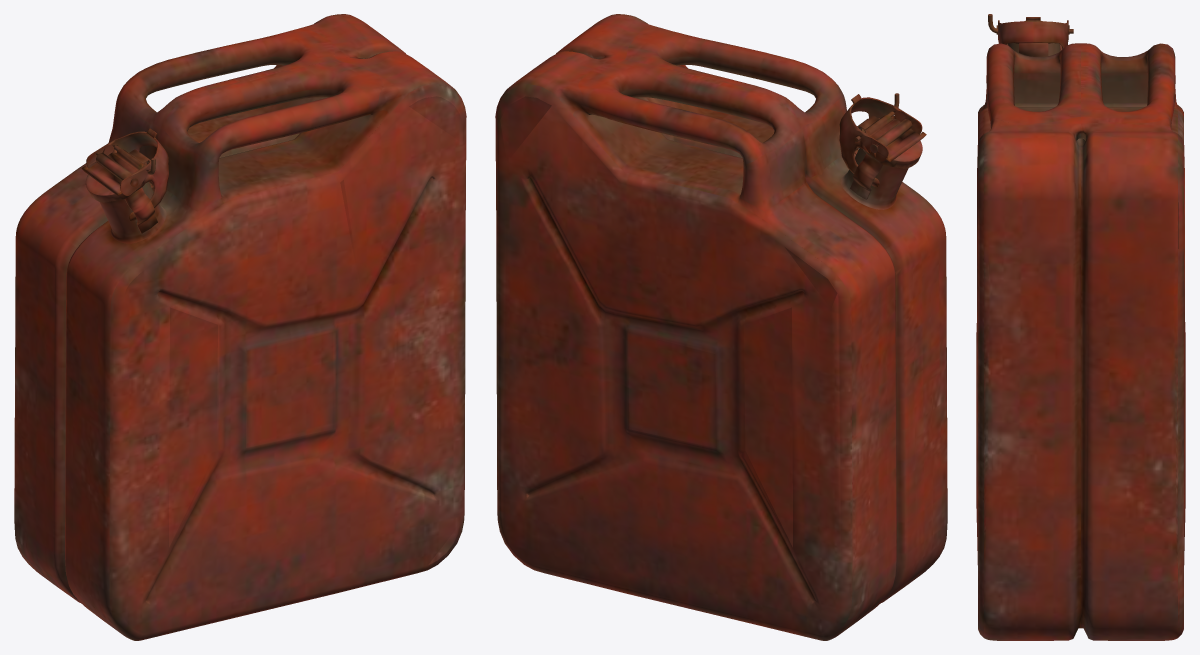
Rendered from ph_metal_jerrycan.glb.
3 renders of one model, left to right at view 1: azimuth 30°, elevation 25°; view 2: azimuth 150°, elevation 25°; view 3: azimuth 270°, elevation 25°, orthographic. The views are drawn at different scales.
Visible parts, largest first — view 1: metal_jerrycan; view 2: metal_jerrycan; view 3: metal_jerrycan.
Boxes of the visible parts, left/top/right/bottom form: metal_jerrycan: left=14, top=14, right=466, bottom=640; metal_jerrycan: left=495, top=14, right=947, bottom=640; metal_jerrycan: left=976, top=14, right=1185, bottom=640.
Size of the model in its own units: 0.3503 by 0.4552 by 0.1718.
1 material, 1 textured.
